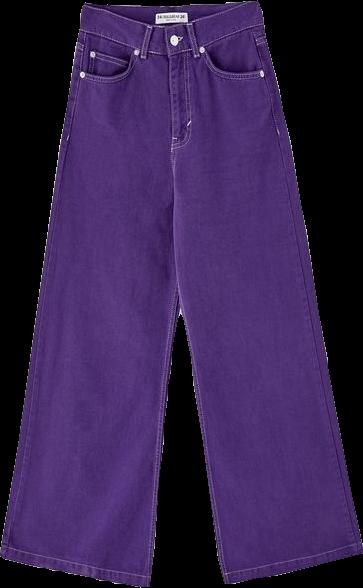Hemline: (0, 551, 151, 587), (223, 550, 362, 585)
Pantleg: (169, 1, 362, 582), (0, 3, 185, 585)
Waistline: (80, 23, 264, 60), (79, 0, 257, 31)
